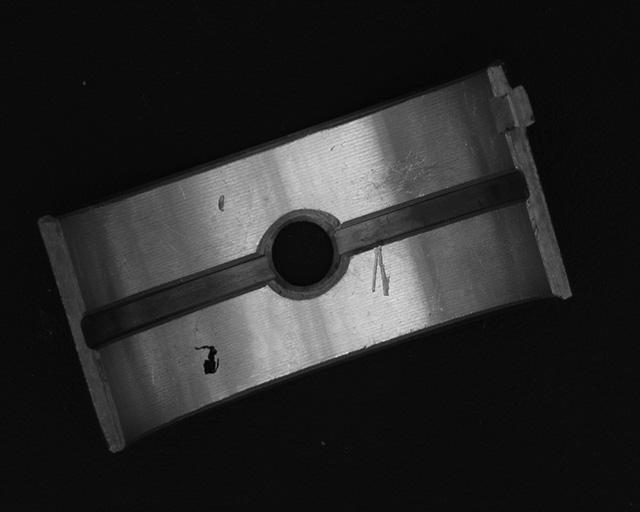blot: (194, 344, 221, 376)
bruise: (218, 193, 226, 214)
gap: (82, 254, 272, 347), (337, 171, 527, 255)
hole: (260, 212, 346, 297)
nick: (371, 244, 391, 297)
scratch: (356, 141, 471, 202)
